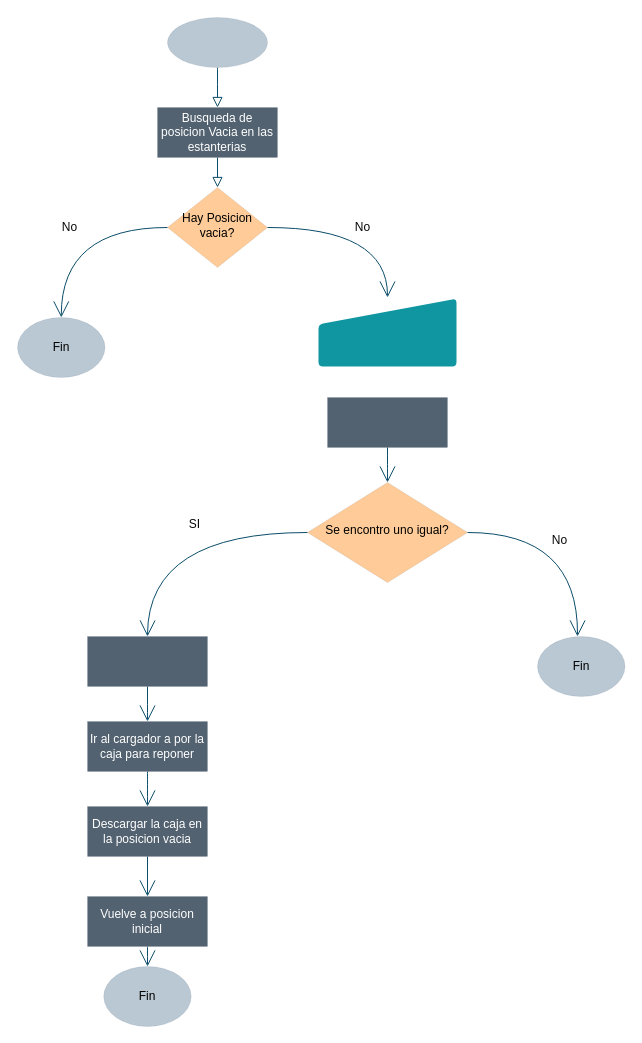
This 642x1043 diagram has some shape labels left out. Each missing label, with the centre of its shape:
Busca y compara si hay una pieza igual en los cargadores: the point at 387,422
Datos de posicion y estado: the point at 387,332
Iniicio: the point at 217,42
Peticion de Reponer: the point at 147,661
